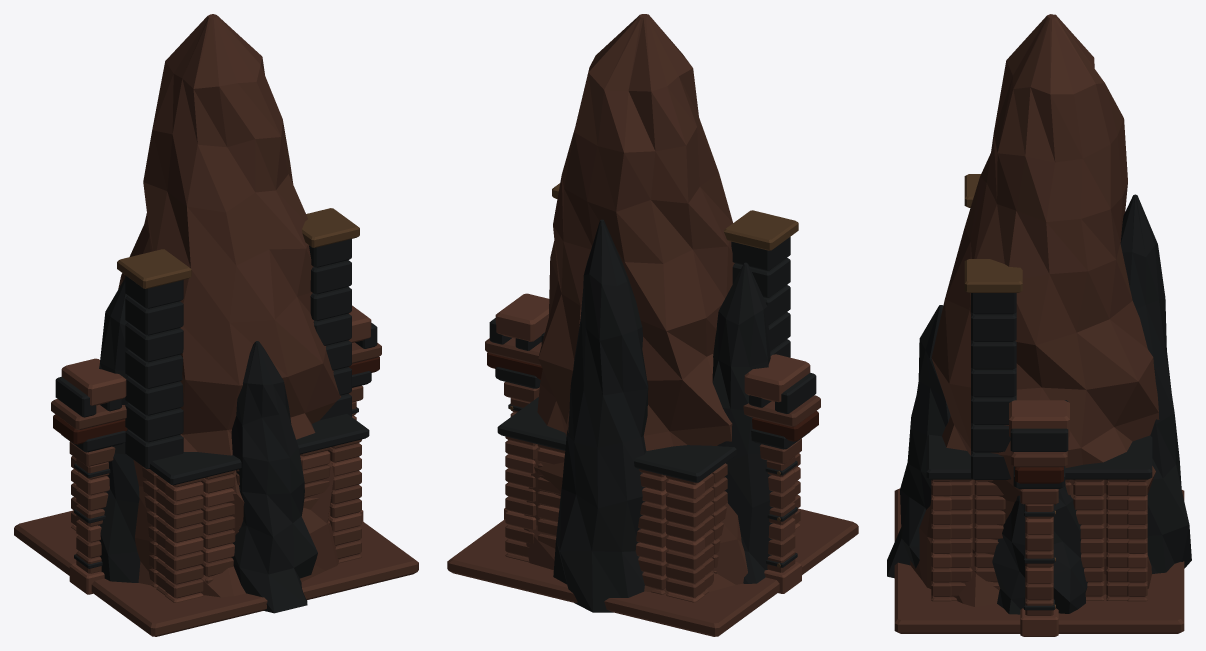
Rendered from blood_iron.glb.
3 renders of one model, left to right at view 1: azimuth 30°, elevation 25°; view 2: azimuth 150°, elevation 25°; view 3: azimuth 270°, elevation 25°, orthographic. The views are drawn at different scales.
Parts seen in each view (by area): view 1: Rock_stone, Landmark_stone, Rock_dark, Landmark_dark, Gate_stone, Gate_stone_light, Landmark_stone_light, Landmark_trim, Gate_dark, Gate_wood; view 2: Rock_stone, Rock_dark, Landmark_stone, Landmark_dark, Gate_stone_light, Gate_stone, Landmark_stone_light, Gate_dark, Landmark_trim, Gate_wood; view 3: Rock_stone, Landmark_stone, Rock_dark, Landmark_dark, Gate_stone_light, Gate_stone, Gate_dark, Landmark_trim, Landmark_stone_light, Gate_wood.
Part boxes in pixels (x1,y1,x2,y2): Rock_stone: [118, 14, 340, 597]; Landmark_stone: [14, 439, 418, 636]; Rock_dark: [98, 278, 317, 613]; Landmark_dark: [125, 239, 369, 484]; Gate_stone: [51, 342, 381, 573]; Gate_stone_light: [61, 305, 371, 594]; Landmark_stone_light: [71, 450, 361, 602]; Landmark_trim: [117, 208, 359, 288]; Gate_dark: [55, 323, 377, 568]; Gate_wood: [53, 357, 379, 444]; Rock_stone: [524, 14, 747, 593]; Rock_dark: [553, 219, 773, 612]; Landmark_stone: [447, 436, 858, 636]; Landmark_dark: [497, 237, 790, 482]; Gate_stone_light: [495, 293, 810, 593]; Gate_stone: [485, 338, 820, 572]; Landmark_stone_light: [505, 448, 800, 602]; Gate_dark: [489, 318, 816, 567]; Landmark_trim: [552, 183, 798, 250]; Gate_wood: [487, 352, 818, 441]; Rock_stone: [910, 14, 1159, 606]; Landmark_stone: [894, 479, 1184, 633]; Rock_dark: [887, 194, 1191, 614]; Landmark_dark: [926, 293, 1152, 479]; Gate_stone_light: [1009, 400, 1069, 636]; Gate_stone: [1011, 451, 1067, 615]; Gate_dark: [1010, 400, 1068, 610]; Landmark_trim: [964, 174, 1022, 292]; Landmark_stone_light: [931, 495, 1147, 568]; Gate_wood: [1015, 467, 1063, 483].
Size of the model in its own units: 12 by 20.6 by 10.
